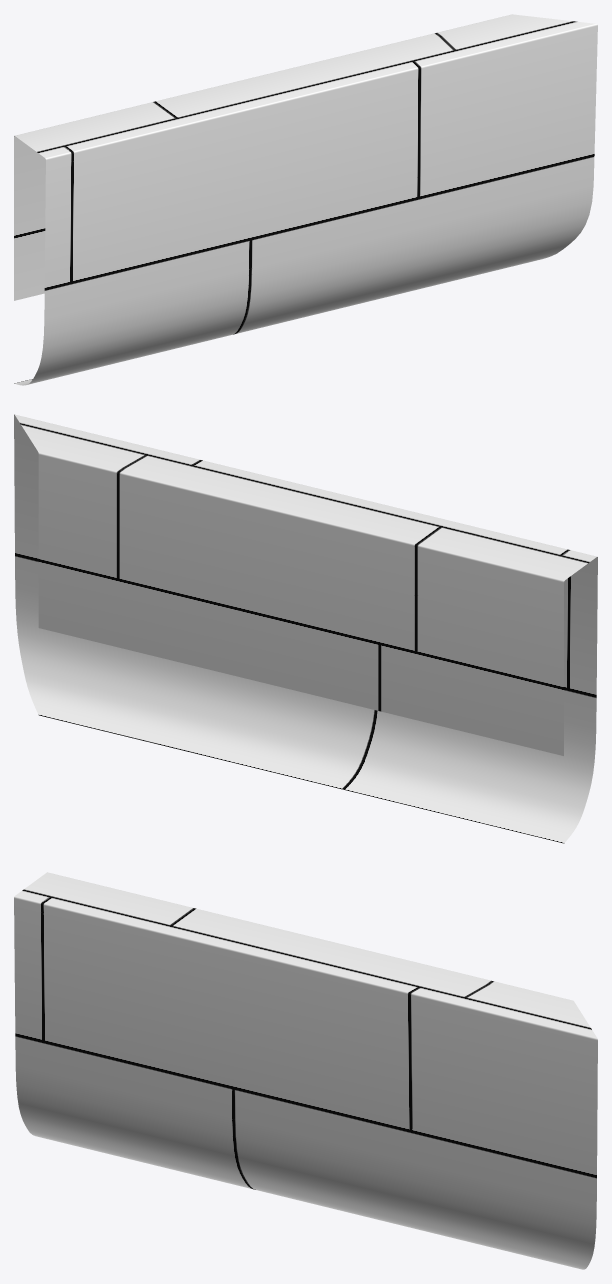
The model's file is Parapet01_350cmAngle3.FBX.
3 renders of one model, top to bottom at view 1: azimuth 30°, elevation 25°; view 2: azimuth 150°, elevation 25°; view 3: azimuth 330°, elevation 25°, orthographic. The views are drawn at different scales.
Parts seen in each view (by area): view 1: Parapet01_350cmAngle3; view 2: Parapet01_350cmAngle3; view 3: Parapet01_350cmAngle3.
Boxes of the visible parts, left/top/right/bottom form: Parapet01_350cmAngle3: left=14, top=14, right=597, bottom=385; Parapet01_350cmAngle3: left=14, top=414, right=597, bottom=843; Parapet01_350cmAngle3: left=14, top=872, right=597, bottom=1269.
Size of the model in its own units: 350 by 150 by 35.13.
